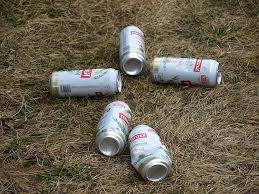metal: (127, 124, 173, 182), (150, 57, 221, 87), (97, 101, 132, 156), (49, 68, 122, 93), (120, 25, 147, 77)
